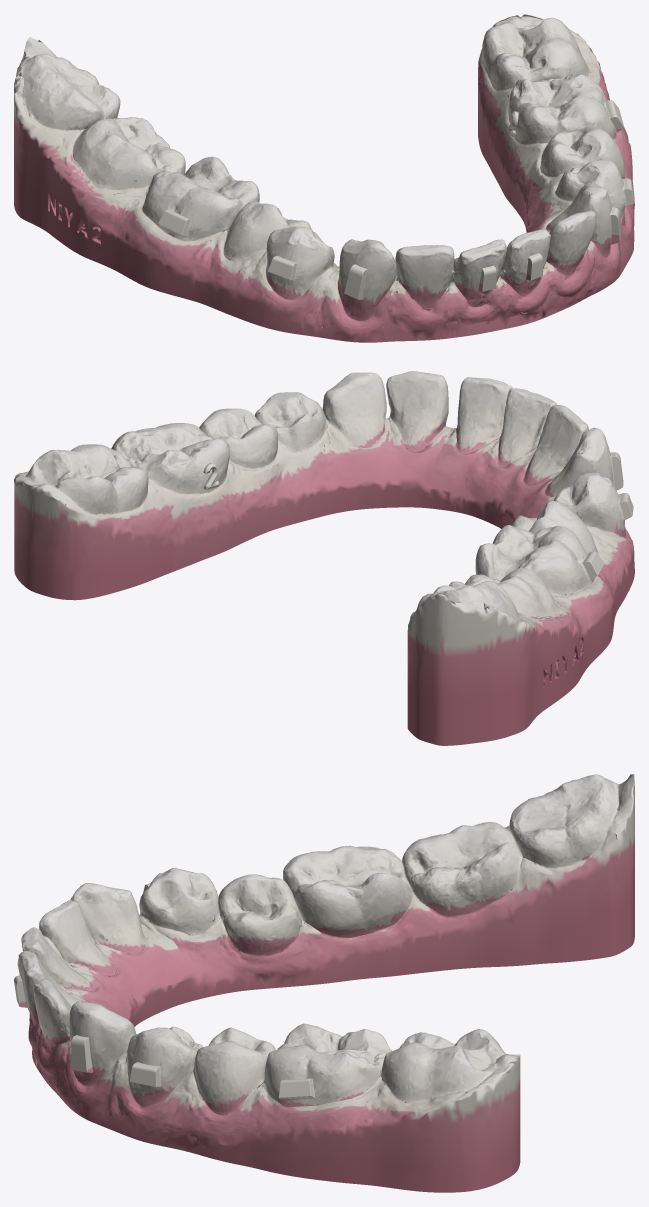
Rendered from Niya Priority Lower jaw - 02 - Model.glb.
The picture shows the model from 3 angles, top to bottom: view 1: azimuth 30°, elevation 25°; view 2: azimuth 150°, elevation 25°; view 3: azimuth 270°, elevation 25°; orthographic projection. The views are drawn at different scales.
Parts seen in each view (by area): view 1: Niya Priority Lower jaw - 02 - Model; view 2: Niya Priority Lower jaw - 02 - Model; view 3: Niya Priority Lower jaw - 02 - Model.
Part boxes in pixels (bbox=[...]): Niya Priority Lower jaw - 02 - Model: bbox=[14, 14, 634, 342]; Niya Priority Lower jaw - 02 - Model: bbox=[14, 371, 634, 745]; Niya Priority Lower jaw - 02 - Model: bbox=[14, 774, 634, 1192].
Size of the model in its own units: 62.72 by 16.53 by 58.24.
